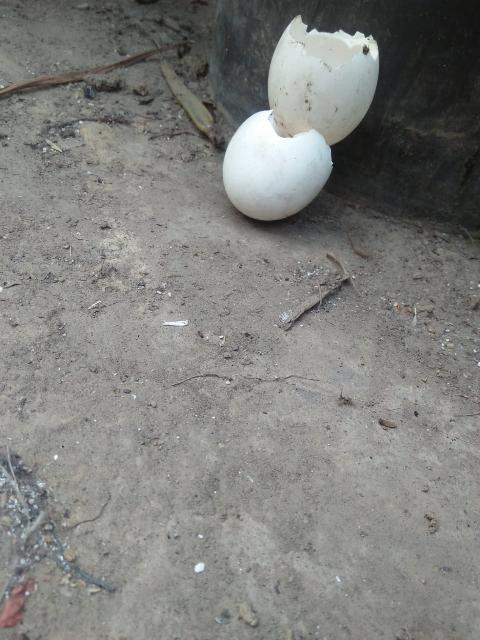Roto: (264, 13, 380, 143), (266, 14, 380, 146), (221, 108, 333, 222)
